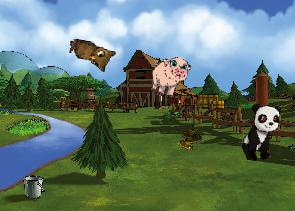owl: (65, 38, 116, 73)
panda: (239, 100, 283, 165)
pig: (145, 51, 193, 102)
